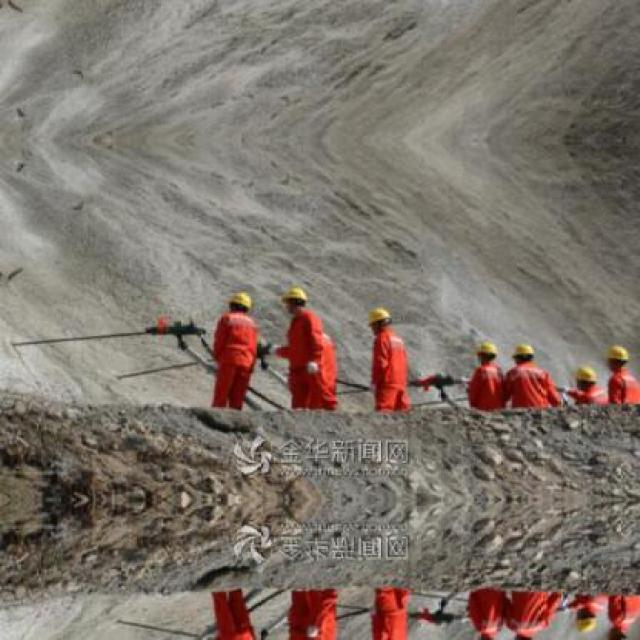helmet: (278, 285, 307, 315), (570, 365, 599, 395), (570, 604, 599, 633), (604, 341, 630, 373), (364, 304, 393, 332), (227, 288, 253, 318), (508, 342, 538, 366), (472, 340, 497, 365), (603, 624, 631, 637), (508, 632, 538, 637)
